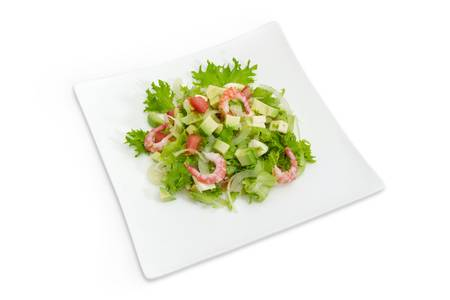chopped lettuce: (139, 76, 302, 202)
